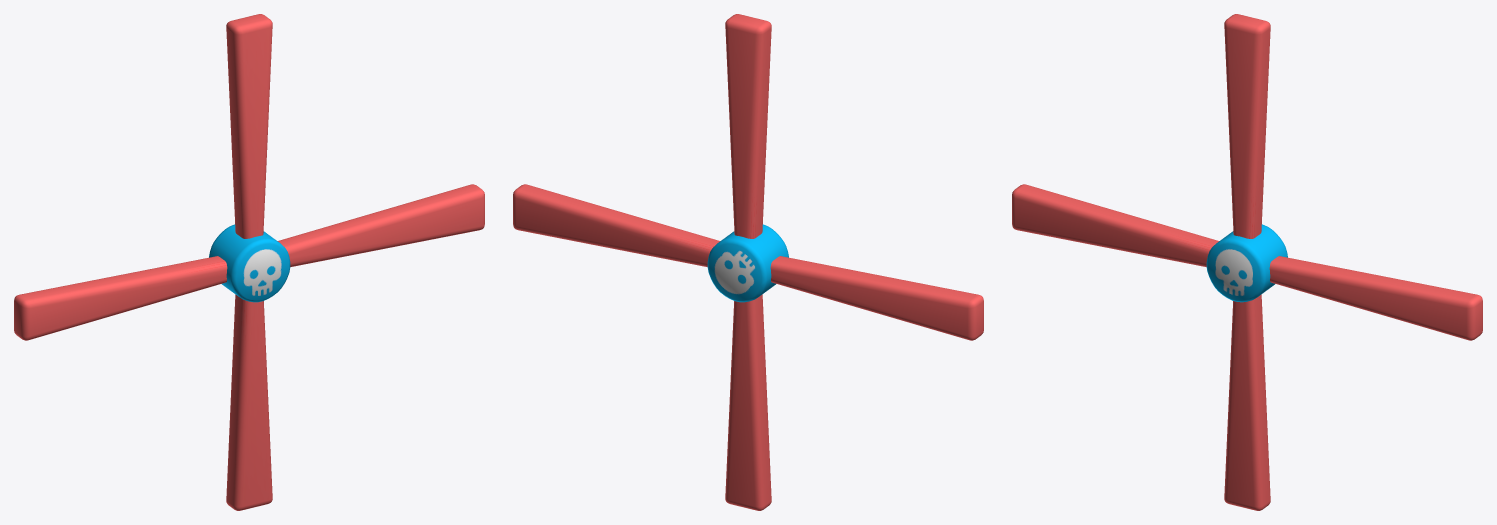
Rendered from rotate_big_horizontal_4.FBX.
3 views of the same model, side by side, from view 1: azimuth 30°, elevation 25°; view 2: azimuth 150°, elevation 25°; view 3: azimuth 330°, elevation 25° (orthographic).
Parts seen in each view (by area): view 1: rotate_big_horizontal_4; view 2: rotate_big_horizontal_4; view 3: rotate_big_horizontal_4.
Part boxes in pixels (bbox=[...]): rotate_big_horizontal_4: bbox=[14, 14, 484, 510]; rotate_big_horizontal_4: bbox=[513, 14, 983, 510]; rotate_big_horizontal_4: bbox=[1012, 14, 1482, 510].
Size of the model in its own units: 11.76 by 11.76 by 1.16.
1 material, 1 textured.
